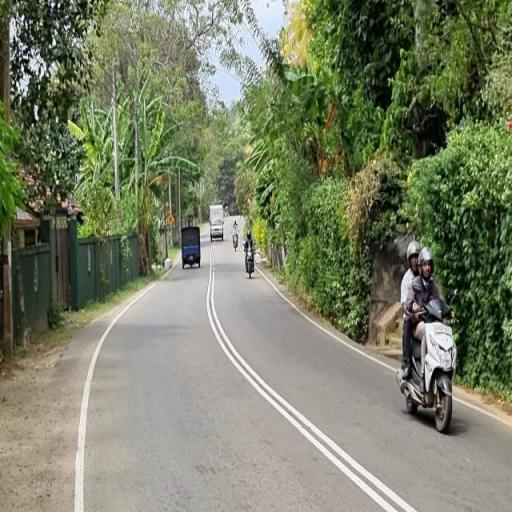double_white_line: (206, 249, 418, 512)
